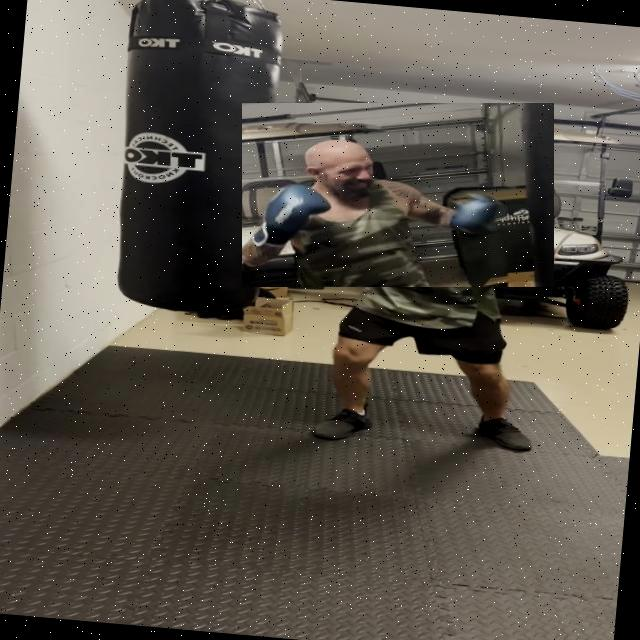punch: (242, 103, 554, 287)
